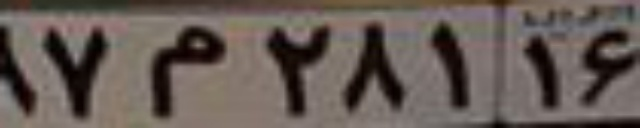1: (427, 20, 476, 109), (520, 33, 558, 109)
2: (269, 21, 338, 117)
6: (577, 29, 638, 105)
7: (42, 24, 113, 116)
8: (342, 19, 410, 109), (0, 25, 39, 114)
mim: (143, 26, 231, 118)
